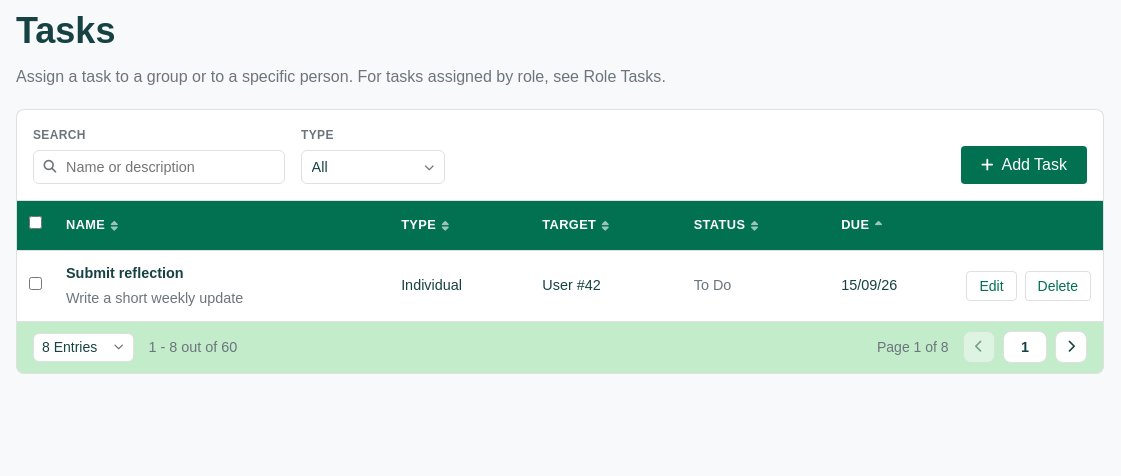
it: AdminTasksPage › clears selected tasks when navigating to another page
Click the checkbox named "Select Submit reflection".
click(36, 284)  # box [29, 278, 42, 290]
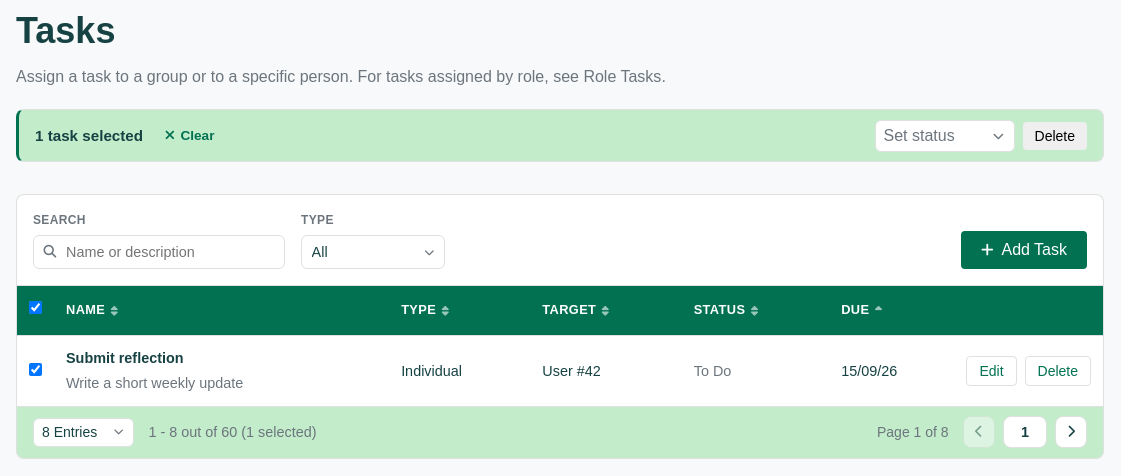
Expected: the text "1 task selected" is shown, [35, 124, 143, 148]
Click the button named "Next page".
click(1071, 432)  # box [1055, 416, 1087, 448]
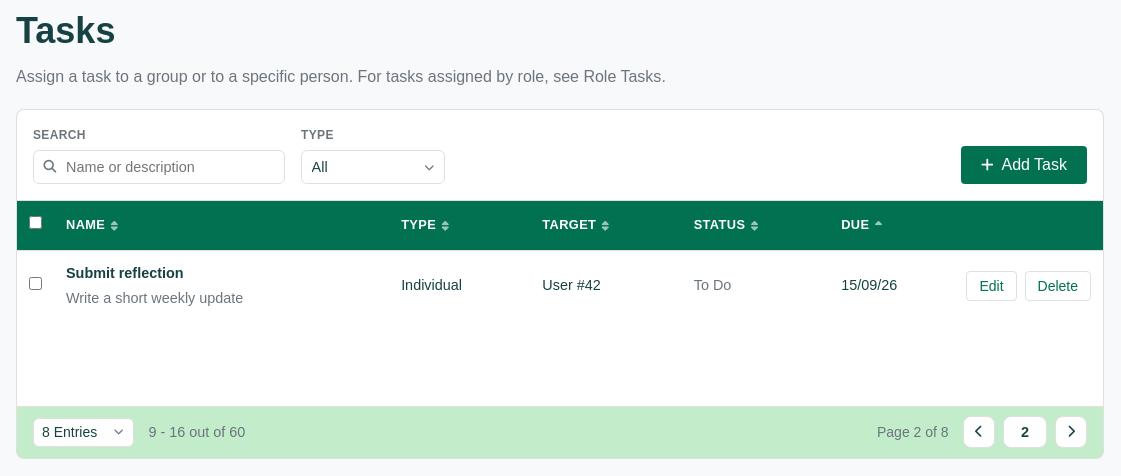
Expected: the text "task selected" is gone
